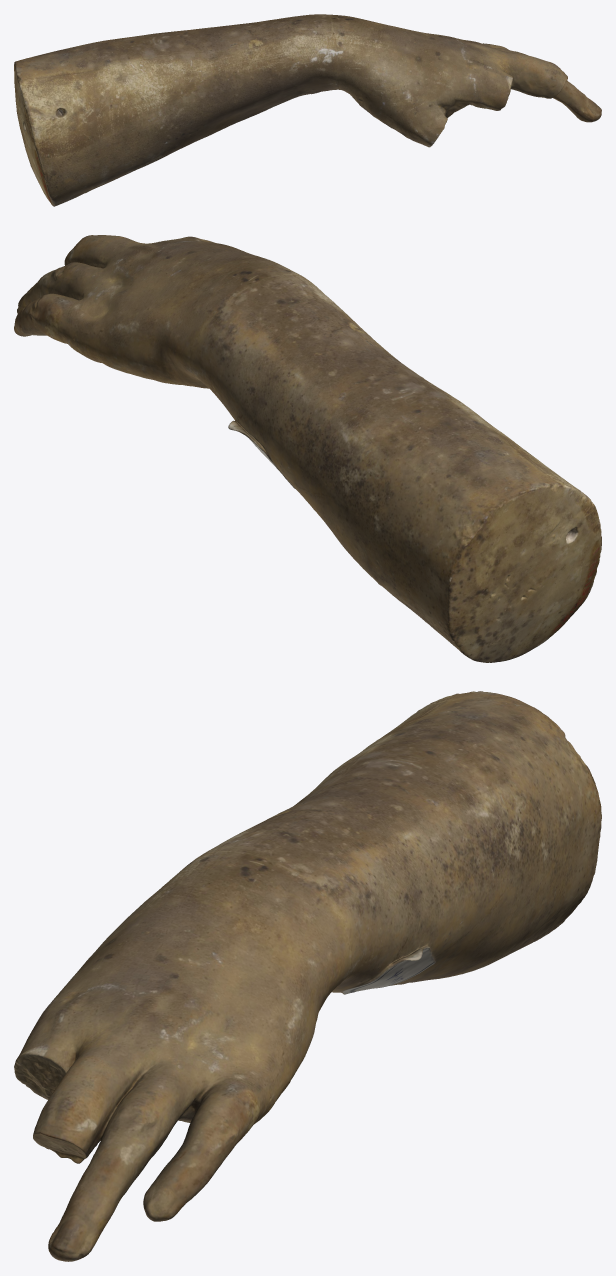
Rendered from life-cast-of-left-forearm-and-hand-150k-2048-medium.glb.
The picture shows the model from 3 angles, top to bottom: view 1: azimuth 30°, elevation 25°; view 2: azimuth 150°, elevation 25°; view 3: azimuth 270°, elevation 25°; orthographic projection. The views are drawn at different scales.
Bounding box in the file's own units: 11.97 × 3.89 × 6.77.
1 material, 1 textured.
